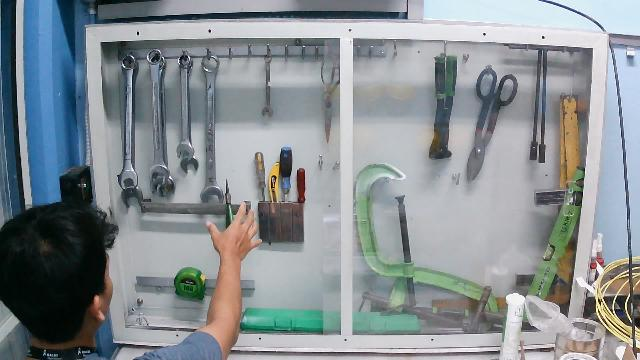tang_cucut_lancip_2: (201, 179, 265, 262)
